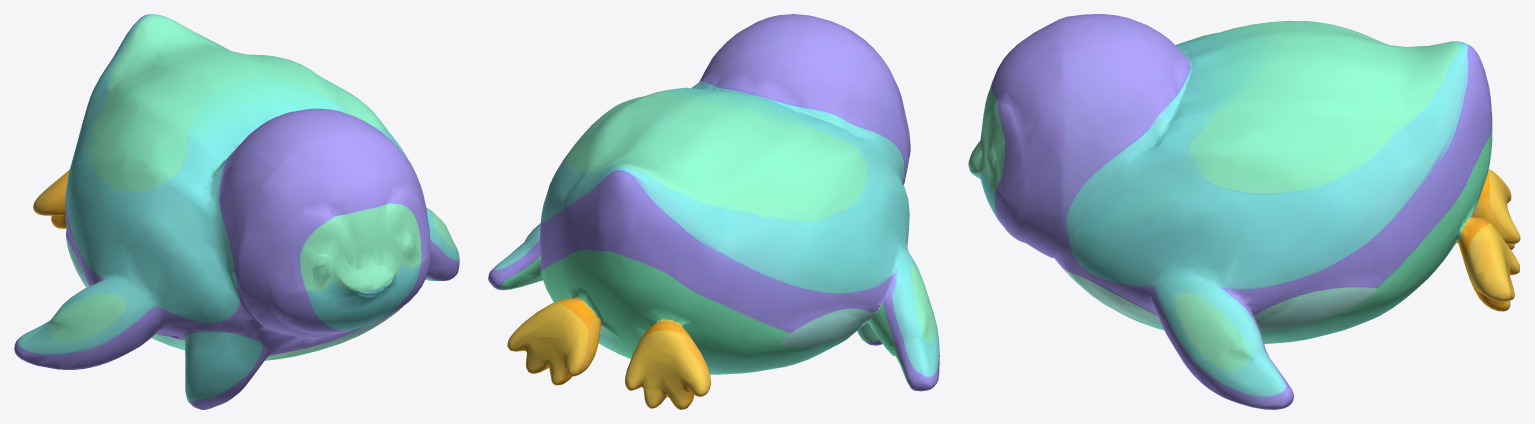
The model's file is static.glb.
3 renders of one model, left to right at view 1: azimuth 30°, elevation 25°; view 2: azimuth 150°, elevation 25°; view 3: azimuth 270°, elevation 25°, orthographic. The views are drawn at different scales.
Visible parts, largest first — view 1: Mesh_0; view 2: Mesh_0; view 3: Mesh_0.
Boxes of the visible parts, x1,y1,x2,y2 form: Mesh_0: (14, 14, 459, 409); Mesh_0: (488, 14, 939, 409); Mesh_0: (968, 14, 1520, 409).
Size of the model in its own units: 1.9 by 1.16 by 1.9.
1 material, 1 textured.
